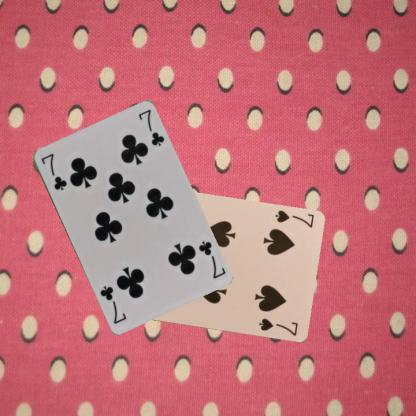7c: (196, 238, 226, 280), (38, 151, 68, 191)
7s: (272, 207, 315, 230)
